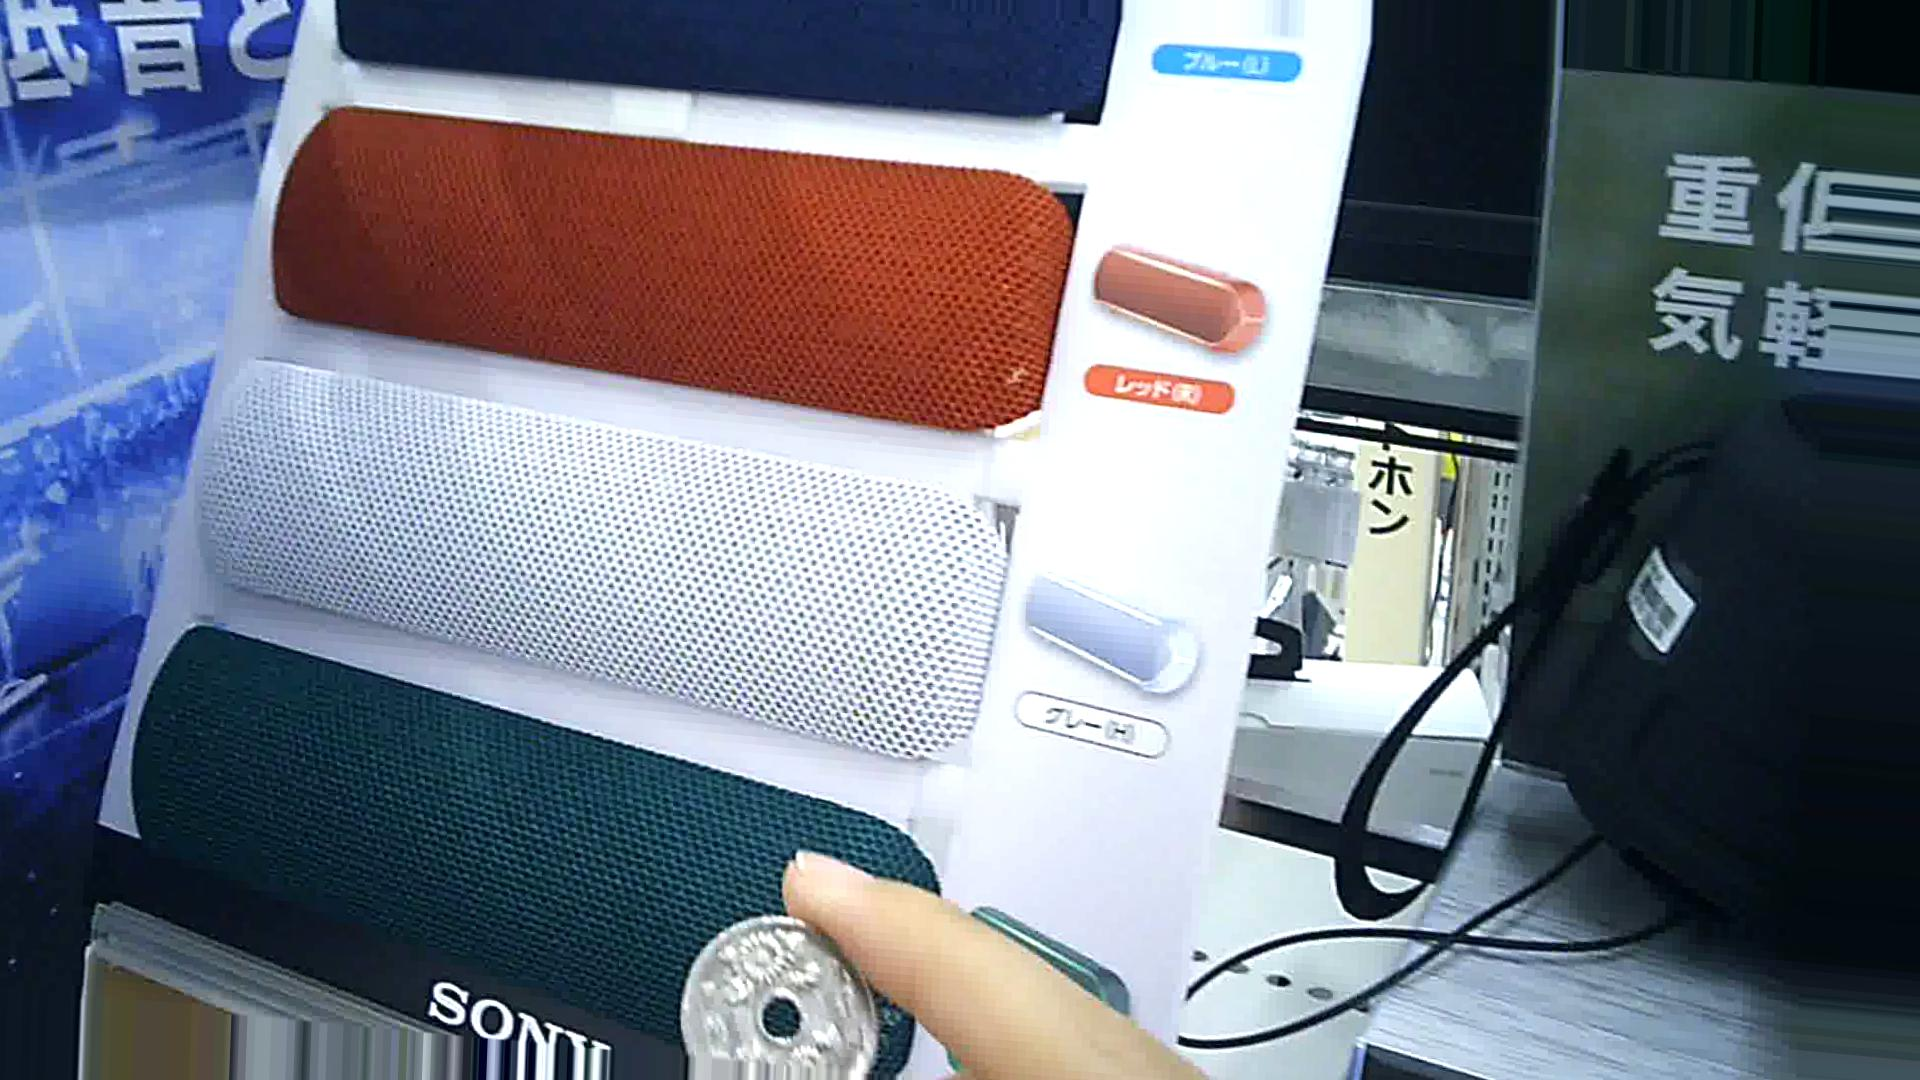50 Yen: (680, 906, 882, 1062)
